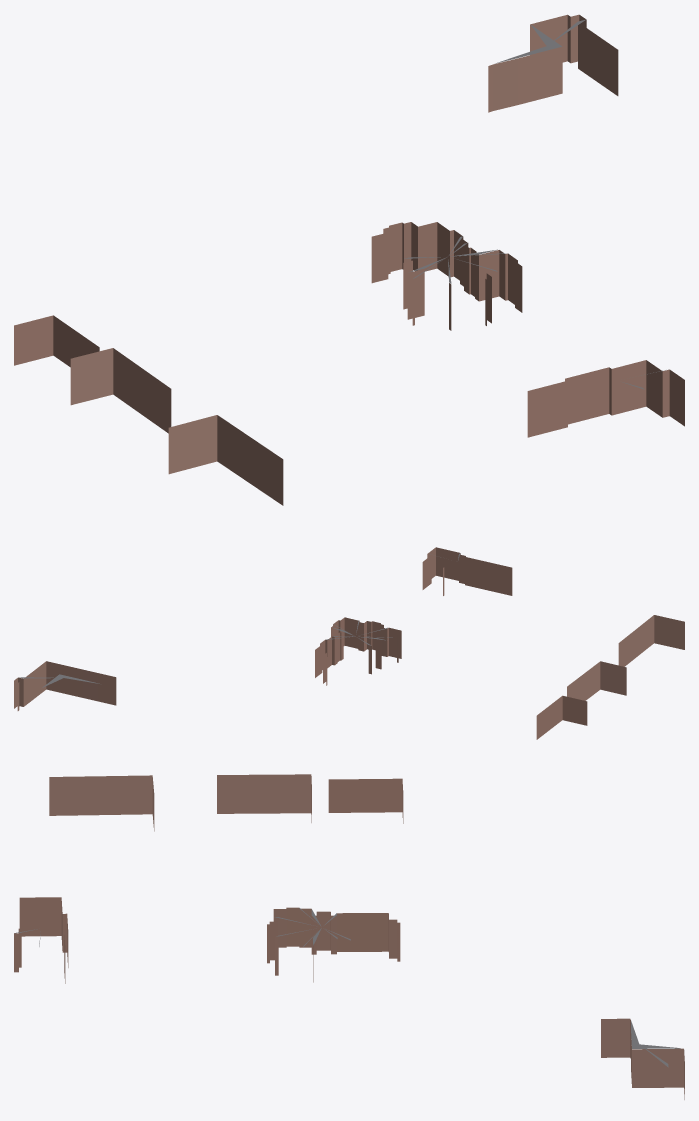
File: c_1635_17831_buildings_residential.glb
3 views of the same model, one above another, from view 1: azimuth 30°, elevation 25°; view 2: azimuth 150°, elevation 25°; view 3: azimuth 270°, elevation 25° (orthographic). The views are drawn at different scales.
Visible parts, largest first — view 1: geometry_0; view 2: geometry_0; view 3: geometry_0.
Boxes of the visible parts, x1,y1,x2,y2 form: geometry_0: [14, 14, 684, 505]; geometry_0: [14, 547, 684, 739]; geometry_0: [14, 774, 684, 1099].
Bounding box in the file's own units: 181 × 12.02 × 172.
